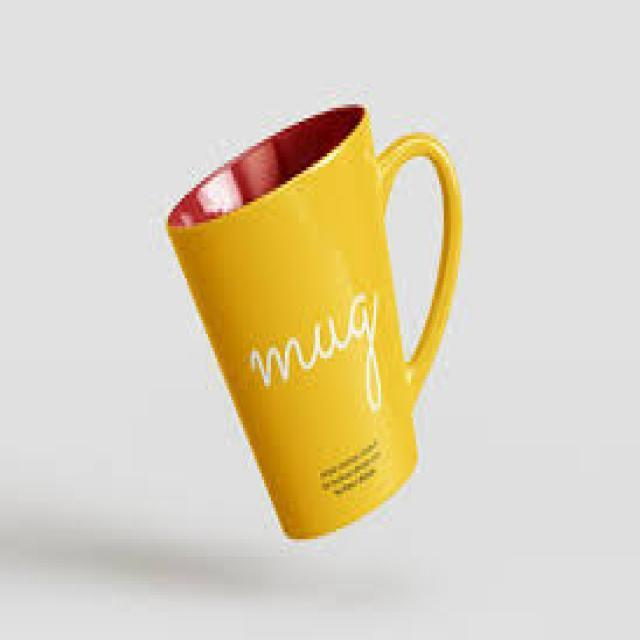taza: (122, 109, 472, 552)
